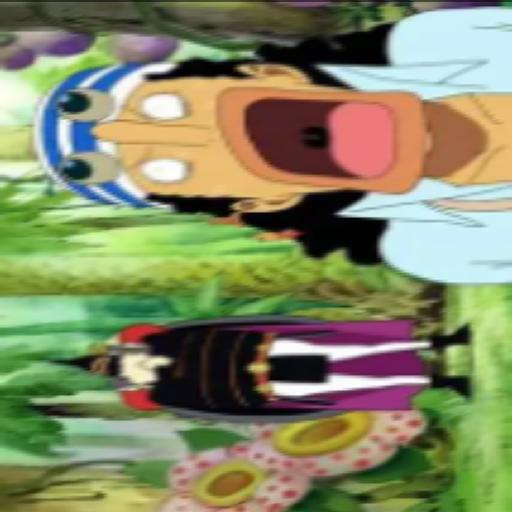Usopp: (27, 1, 512, 284)
